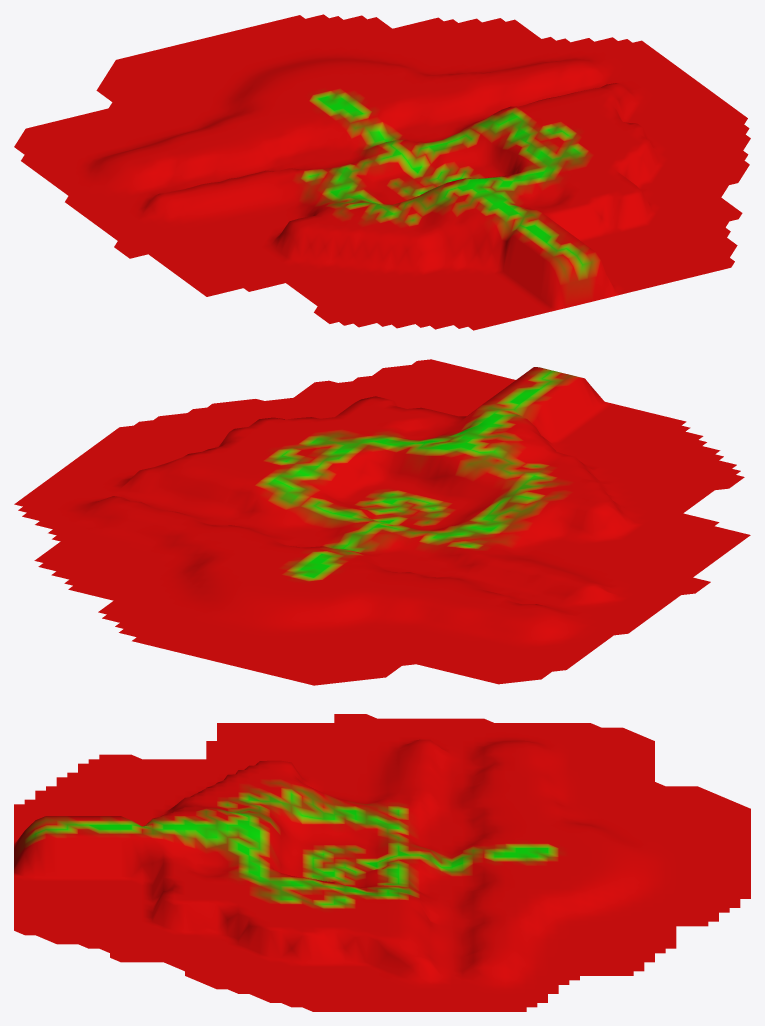
Rendered from Ground01.FBX.
3 views of the same model, one above another, from view 1: azimuth 30°, elevation 25°; view 2: azimuth 150°, elevation 25°; view 3: azimuth 270°, elevation 25° (orthographic).
Visible parts, largest first — view 1: Ground01; view 2: Ground01; view 3: Ground01.
Boxes of the visible parts, x1,y1,x2,y2 form: Ground01: (14,14,750,330); Ground01: (14,359,750,685); Ground01: (14,714,750,1011).
Bounding box in the file's own units: 16667 × 887 × 17424.
